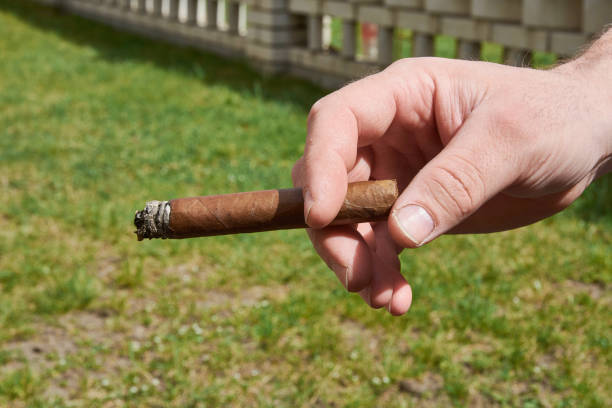cigarette: (132, 179, 409, 242)
